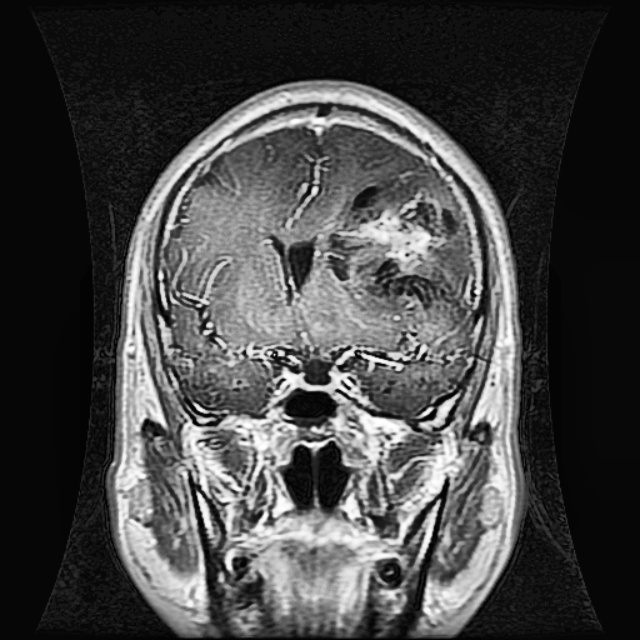Glioma: (327, 184, 465, 307)
